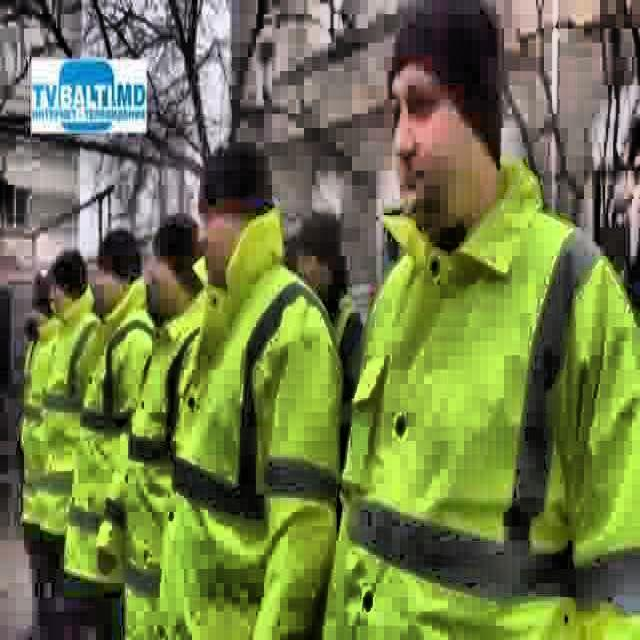safety_jacket: (320, 153, 640, 640), (153, 205, 344, 640), (124, 288, 210, 640), (60, 277, 156, 588), (37, 282, 105, 540), (20, 312, 60, 526)
